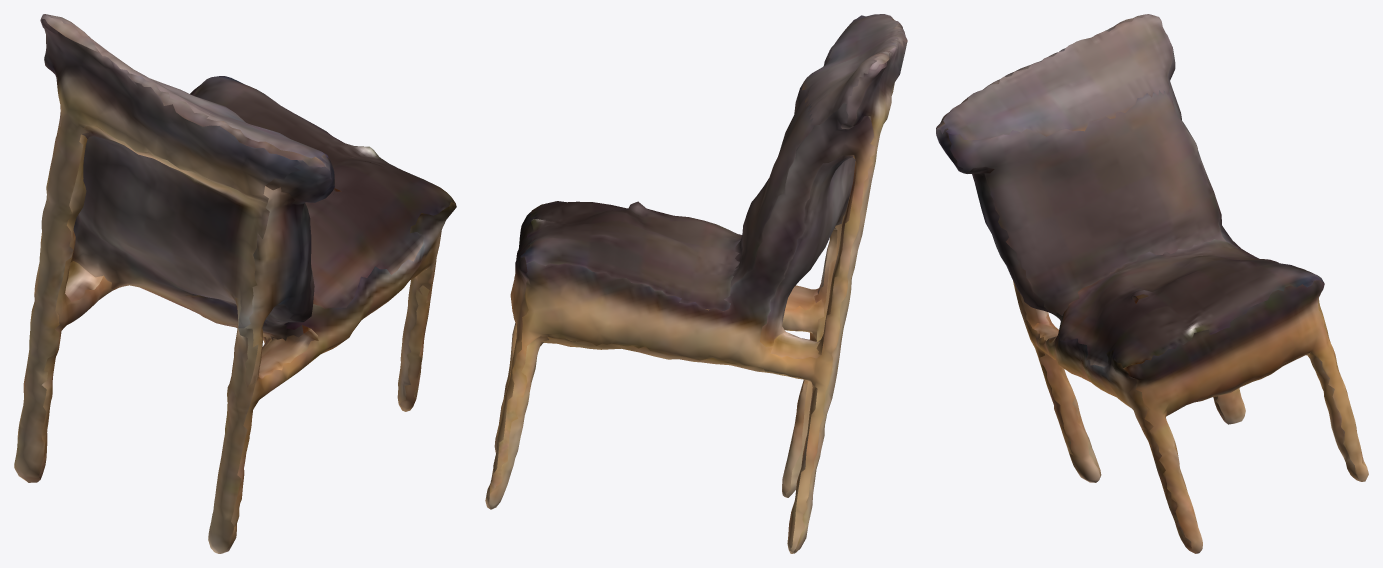
Rendered from 3_chair.glb.
The picture shows the model from 3 angles, left to right: view 1: azimuth 30°, elevation 25°; view 2: azimuth 150°, elevation 25°; view 3: azimuth 270°, elevation 25°; orthographic projection. The views are drawn at different scales.
Parts seen in each view (by area): view 1: 3_chair; view 2: 3_chair; view 3: 3_chair.
Part boxes in pixels (left/top/right/bottom): 3_chair: left=14, top=14, right=456, bottom=553; 3_chair: left=485, top=14, right=907, bottom=553; 3_chair: left=936, top=14, right=1368, bottom=553.
Size of the model in its own units: 0.8445 by 1.09 by 1.02.
1 material, 1 textured.
